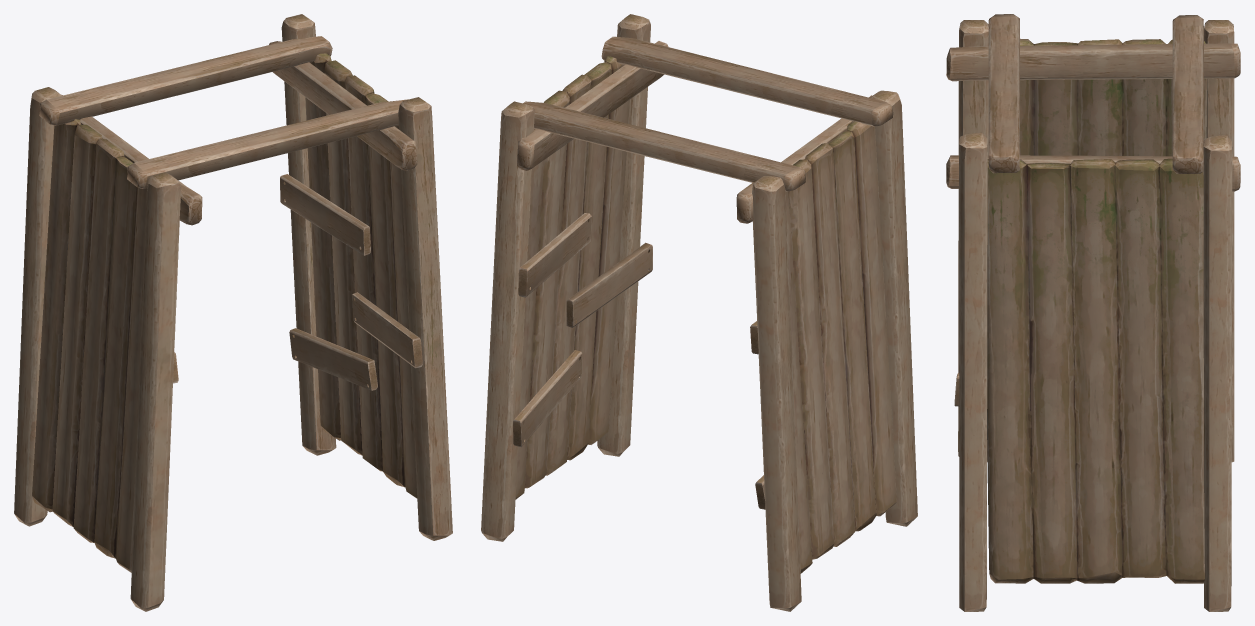
The model's file is CorridorBeam_02.fbx.
The picture shows the model from 3 angles, left to right: view 1: azimuth 30°, elevation 25°; view 2: azimuth 150°, elevation 25°; view 3: azimuth 270°, elevation 25°; orthographic projection. The views are drawn at different scales.
Parts seen in each view (by area): view 1: CorridorBeam_02; view 2: CorridorBeam_02; view 3: CorridorBeam_02.
Boxes of the visible parts, x1=… form: CorridorBeam_02: x1=14, y1=14, x2=452, y2=611; CorridorBeam_02: x1=481, y1=14, x2=917, y2=611; CorridorBeam_02: x1=946, y1=14, x2=1240, y2=611.
Bounding box in the file's own units: 1.49 × 2.01 × 1.16.
